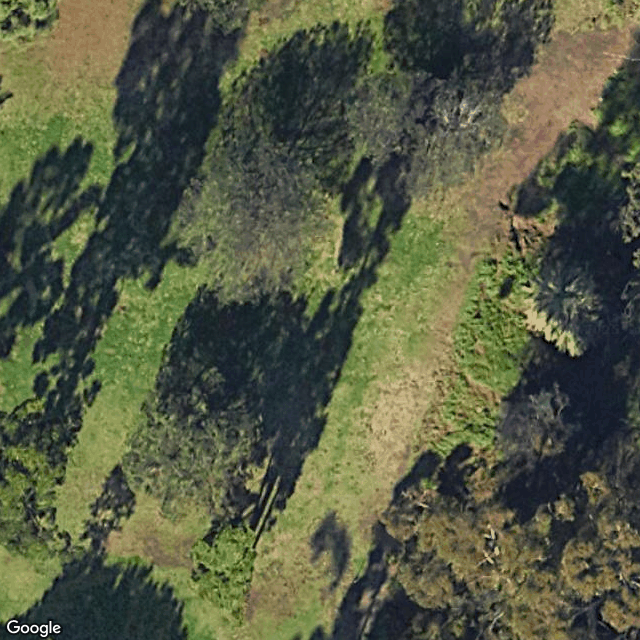palm: (518, 253, 606, 369)
